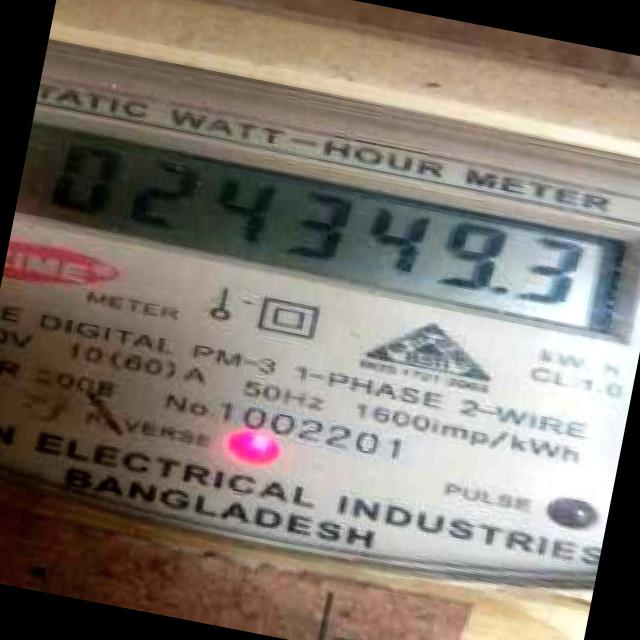LCD: (12, 110, 640, 344)
